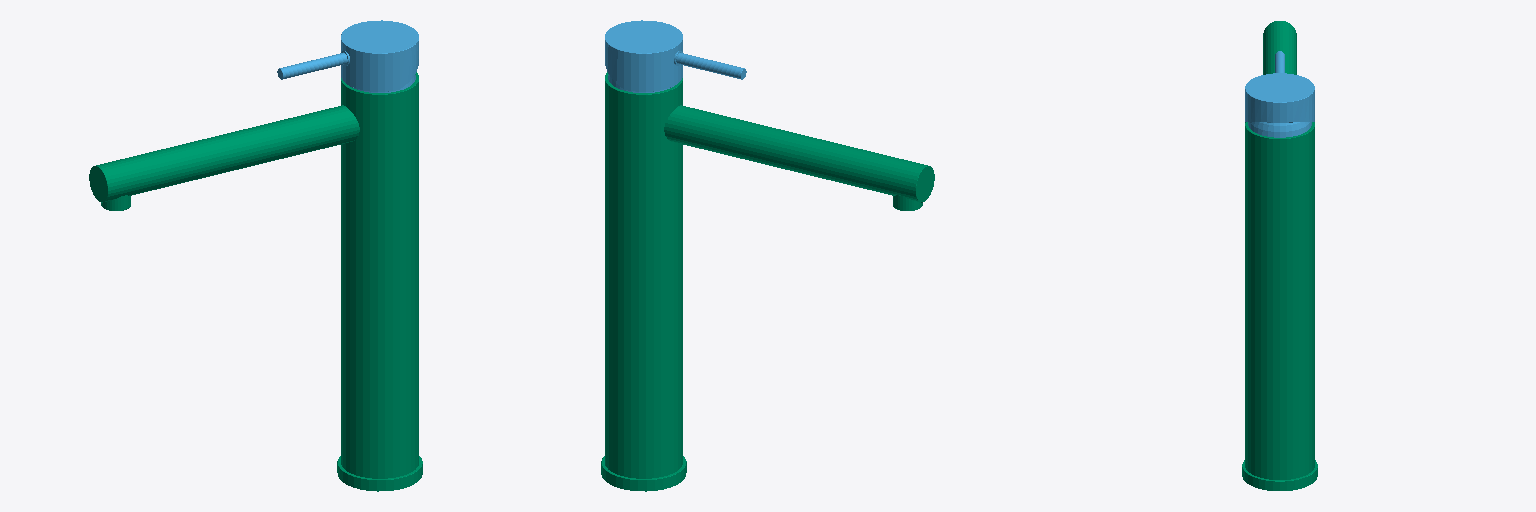
The robot description file, URDF, robot "partnet_4492ee234374c85914b35a7d7cea7130":
<robot name="partnet_4492ee234374c85914b35a7d7cea7130">
	<link name="base" />
	<link name="link_0">
		<collision>
			<origin xyz="0.00021050000000000235 0 0.12722336982116578" />
			<geometry>
				<mesh filename="new_objs/1633_link_0_34.obj" />
			</geometry>
		</collision>
		<collision>
			<origin xyz="0.00021050000000000235 0 0.12722336982116578" />
			<geometry>
				<mesh filename="new_objs/1633_link_0_10.obj" />
			</geometry>
		</collision>
		<collision>
			<origin xyz="0.00021050000000000235 0 0.12722336982116578" />
			<geometry>
				<mesh filename="new_objs/1633_link_0_39.obj" />
			</geometry>
		</collision>
		<collision>
			<origin xyz="0.00021050000000000235 0 0.12722336982116578" />
			<geometry>
				<mesh filename="new_objs/1633_link_0_2.obj" />
			</geometry>
		</collision>
		<collision>
			<origin xyz="0.00021050000000000235 0 0.12722336982116578" />
			<geometry>
				<mesh filename="new_objs/1633_link_0_28.obj" />
			</geometry>
		</collision>
		<collision>
			<origin xyz="0.00021050000000000235 0 0.12722336982116578" />
			<geometry>
				<mesh filename="new_objs/1633_link_0_21.obj" />
			</geometry>
		</collision>
		<collision>
			<origin xyz="0.00021050000000000235 0 0.12722336982116578" />
			<geometry>
				<mesh filename="new_objs/1633_link_0_33.obj" />
			</geometry>
		</collision>
		<collision>
			<origin xyz="0.00021050000000000235 0 0.12722336982116578" />
			<geometry>
				<mesh filename="new_objs/1633_link_0_1.obj" />
			</geometry>
		</collision>
		<collision>
			<origin xyz="0.00021050000000000235 0 0.12722336982116578" />
			<geometry>
				<mesh filename="new_objs/1633_link_0_41.obj" />
			</geometry>
		</collision>
		<collision>
			<origin xyz="0.00021050000000000235 0 0.12722336982116578" />
			<geometry>
				<mesh filename="new_objs/1633_link_0_8.obj" />
			</geometry>
		</collision>
		<collision>
			<origin xyz="0.00021050000000000235 0 0.12722336982116578" />
			<geometry>
				<mesh filename="new_objs/1633_link_0_42.obj" />
			</geometry>
		</collision>
		<collision>
			<origin xyz="0.00021050000000000235 0 0.12722336982116578" />
			<geometry>
				<mesh filename="new_objs/1633_link_0_32.obj" />
			</geometry>
		</collision>
		<collision>
			<origin xyz="0.00021050000000000235 0 0.12722336982116578" />
			<geometry>
				<mesh filename="new_objs/1633_link_0_14.obj" />
			</geometry>
		</collision>
		<collision>
			<origin xyz="0.00021050000000000235 0 0.12722336982116578" />
			<geometry>
				<mesh filename="new_objs/1633_link_0_24.obj" />
			</geometry>
		</collision>
		<collision>
			<origin xyz="0.00021050000000000235 0 0.12722336982116578" />
			<geometry>
				<mesh filename="new_objs/1633_link_0_9.obj" />
			</geometry>
		</collision>
		<collision>
			<origin xyz="0.00021050000000000235 0 0.12722336982116578" />
			<geometry>
				<mesh filename="new_objs/1633_link_0_6.obj" />
			</geometry>
		</collision>
		<collision>
			<origin xyz="0.00021050000000000235 0 0.12722336982116578" />
			<geometry>
				<mesh filename="new_objs/1633_link_0_18.obj" />
			</geometry>
		</collision>
		<collision>
			<origin xyz="0.00021050000000000235 0 0.12722336982116578" />
			<geometry>
				<mesh filename="new_objs/1633_link_0_37.obj" />
			</geometry>
		</collision>
		<collision>
			<origin xyz="0.00021050000000000235 0 0.12722336982116578" />
			<geometry>
				<mesh filename="new_objs/1633_link_0_30.obj" />
			</geometry>
		</collision>
		<collision>
			<origin xyz="0.00021050000000000235 0 0.12722336982116578" />
			<geometry>
				<mesh filename="new_objs/1633_link_0_0.obj" />
			</geometry>
		</collision>
		<collision>
			<origin xyz="0.00021050000000000235 0 0.12722336982116578" />
			<geometry>
				<mesh filename="new_objs/1633_link_0_25.obj" />
			</geometry>
		</collision>
		<collision>
			<origin xyz="0.00021050000000000235 0 0.12722336982116578" />
			<geometry>
				<mesh filename="new_objs/1633_link_0_11.obj" />
			</geometry>
		</collision>
		<collision>
			<origin xyz="0.00021050000000000235 0 0.12722336982116578" />
			<geometry>
				<mesh filename="new_objs/1633_link_0_43.obj" />
			</geometry>
		</collision>
		<collision>
			<origin xyz="0.00021050000000000235 0 0.12722336982116578" />
			<geometry>
				<mesh filename="new_objs/1633_link_0_3.obj" />
			</geometry>
		</collision>
		<collision>
			<origin xyz="0.00021050000000000235 0 0.12722336982116578" />
			<geometry>
				<mesh filename="new_objs/1633_link_0_5.obj" />
			</geometry>
		</collision>
		<collision>
			<origin xyz="0.00021050000000000235 0 0.12722336982116578" />
			<geometry>
				<mesh filename="new_objs/1633_link_0_29.obj" />
			</geometry>
		</collision>
		<collision>
			<origin xyz="0.00021050000000000235 0 0.12722336982116578" />
			<geometry>
				<mesh filename="new_objs/1633_link_0_15.obj" />
			</geometry>
		</collision>
		<collision>
			<origin xyz="0.00021050000000000235 0 0.12722336982116578" />
			<geometry>
				<mesh filename="new_objs/1633_link_0_17.obj" />
			</geometry>
		</collision>
		<collision>
			<origin xyz="0.00021050000000000235 0 0.12722336982116578" />
			<geometry>
				<mesh filename="new_objs/1633_link_0_36.obj" />
			</geometry>
		</collision>
		<collision>
			<origin xyz="0.00021050000000000235 0 0.12722336982116578" />
			<geometry>
				<mesh filename="new_objs/1633_link_0_31.obj" />
			</geometry>
		</collision>
		<collision>
			<origin xyz="0.00021050000000000235 0 0.12722336982116578" />
			<geometry>
				<mesh filename="new_objs/1633_link_0_22.obj" />
			</geometry>
		</collision>
		<collision>
			<origin xyz="0.00021050000000000235 0 0.12722336982116578" />
			<geometry>
				<mesh filename="new_objs/1633_link_0_13.obj" />
			</geometry>
		</collision>
		<collision>
			<origin xyz="0.00021050000000000235 0 0.12722336982116578" />
			<geometry>
				<mesh filename="new_objs/1633_link_0_12.obj" />
			</geometry>
		</collision>
		<collision>
			<origin xyz="0.00021050000000000235 0 0.12722336982116578" />
			<geometry>
				<mesh filename="new_objs/1633_link_0_7.obj" />
			</geometry>
		</collision>
		<collision>
			<origin xyz="0.00021050000000000235 0 0.12722336982116578" />
			<geometry>
				<mesh filename="new_objs/1633_link_0_16.obj" />
			</geometry>
		</collision>
		<collision>
			<origin xyz="0.00021050000000000235 0 0.12722336982116578" />
			<geometry>
				<mesh filename="new_objs/1633_link_0_38.obj" />
			</geometry>
		</collision>
		<collision>
			<origin xyz="0.00021050000000000235 0 0.12722336982116578" />
			<geometry>
				<mesh filename="new_objs/1633_link_0_4.obj" />
			</geometry>
		</collision>
		<collision>
			<origin xyz="0.00021050000000000235 0 0.12722336982116578" />
			<geometry>
				<mesh filename="new_objs/1633_link_0_23.obj" />
			</geometry>
		</collision>
		<collision>
			<origin xyz="0.00021050000000000235 0 0.12722336982116578" />
			<geometry>
				<mesh filename="new_objs/1633_link_0_20.obj" />
			</geometry>
		</collision>
		<collision>
			<origin xyz="0.00021050000000000235 0 0.12722336982116578" />
			<geometry>
				<mesh filename="new_objs/1633_link_0_35.obj" />
			</geometry>
		</collision>
		<collision>
			<origin xyz="0.00021050000000000235 0 0.12722336982116578" />
			<geometry>
				<mesh filename="new_objs/1633_link_0_40.obj" />
			</geometry>
		</collision>
		<collision>
			<origin xyz="0.00021050000000000235 0 0.12722336982116578" />
			<geometry>
				<mesh filename="new_objs/1633_link_0_26.obj" />
			</geometry>
		</collision>
		<collision>
			<origin xyz="0.00021050000000000235 0 0.12722336982116578" />
			<geometry>
				<mesh filename="new_objs/1633_link_0_19.obj" />
			</geometry>
		</collision>
		<collision>
			<origin xyz="0.00021050000000000235 0 0.12722336982116578" />
			<geometry>
				<mesh filename="new_objs/1633_link_0_27.obj" />
			</geometry>
		</collision>
		<visual name="switch-part[&quot;id]">
			<origin xyz="0.00021050000000000235 0 0.12722336982116578" />
			<geometry>
				<mesh filename="textured_objs/original-1.obj" />
			</geometry>
		</visual>
		<visual name="switch-part[&quot;id]">
			<origin xyz="0.00021050000000000235 0 0.12722336982116578" />
			<geometry>
				<mesh filename="textured_objs/original-3.obj" />
			</geometry>
		</visual>
		<visual name="switch-part[&quot;id]">
			<origin xyz="0.00021050000000000235 0 0.12722336982116578" />
			<geometry>
				<mesh filename="textured_objs/original-2.obj" />
			</geometry>
		</visual>
		<visual name="switch-part[&quot;id]">
			<origin xyz="0.00021050000000000235 0 0.12722336982116578" />
			<geometry>
				<mesh filename="textured_objs/original-8.obj" />
			</geometry>
		</visual>
		</link>
	<joint name="joint_0" type="revolute">
		<origin xyz="-0.00021050000000000235 0 -0.12722336982116578" />
		<axis xyz="0 1 0" />
		<child link="link_0" />
		<parent link="link_1" />
		<limit lower="-1.5707963267948966" upper="1.5707963267948966" />
	</joint>
	<link name="link_1">
		<collision>
			<origin xyz="0 0 0" />
			<geometry>
				<mesh filename="new_objs/1633_link_1_2.obj" />
			</geometry>
		</collision>
		<collision>
			<origin xyz="0 0 0" />
			<geometry>
				<mesh filename="new_objs/1633_link_1_0.obj" />
			</geometry>
		</collision>
		<collision>
			<origin xyz="0 0 0" />
			<geometry>
				<mesh filename="new_objs/1633_link_1_1.obj" />
			</geometry>
		</collision>
		<visual name="surface_base-part[&quot;id]">
			<origin xyz="0 0 0" />
			<geometry>
				<mesh filename="textured_objs/original-7.obj" />
			</geometry>
		</visual>
		<visual name="vertical_support-part[&quot;id]">
			<origin xyz="0 0 0" />
			<geometry>
				<mesh filename="textured_objs/original-4.obj" />
			</geometry>
		</visual>
		<visual name="tube-part[&quot;id]">
			<origin xyz="0 0 0" />
			<geometry>
				<mesh filename="textured_objs/original-5.obj" />
			</geometry>
		</visual>
		<visual name="mouth-part[&quot;id]">
			<origin xyz="0 0 0" />
			<geometry>
				<mesh filename="textured_objs/original-6.obj" />
			</geometry>
		</visual>
		</link>
	<joint name="joint_1" type="fixed">
		<origin rpy="1.570796326794897 0 -1.570796326794897" xyz="0 0 0" />
		<child link="link_1" />
		<parent link="base" />
	</joint>
</robot>

--- Render facts (derived) ---
3 views of the same robot in one strip: view 1: azimuth 30°, elevation 25°; view 2: azimuth 150°, elevation 25°; view 3: azimuth 270°, elevation 25° (orthographic).
Robot: partnet_4492ee234374c85914b35a7d7cea7130 — 3 links, 2 joints (1 revolute, 1 fixed); root link base; default pose: all joints at 0.
Links seen in each view (by area): view 1: link_1, link_0; view 2: link_1, link_0; view 3: link_1, link_0.
Link boxes in pixels (<box>): link_1: <box>89,72,422,491</box>; link_0: <box>277,20,418,92</box>; link_1: <box>601,72,934,491</box>; link_0: <box>605,20,746,92</box>; link_1: <box>1242,21,1317,490</box>; link_0: <box>1245,51,1314,137</box>.
Size in the robot's own frame: 1.18 by 0.2743 by 1.55 metres.
Meshes: 8 distinct files referenced, 8 mesh visuals loaded (8 OBJ).
